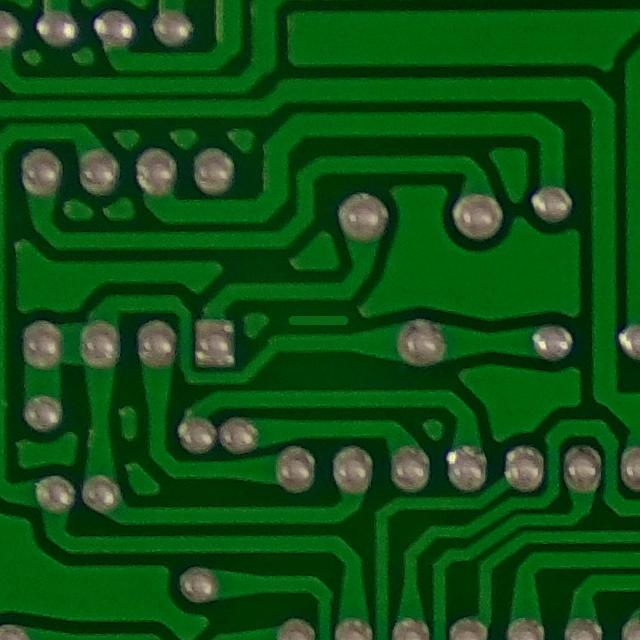spurious_copper: (277, 299, 364, 341)
